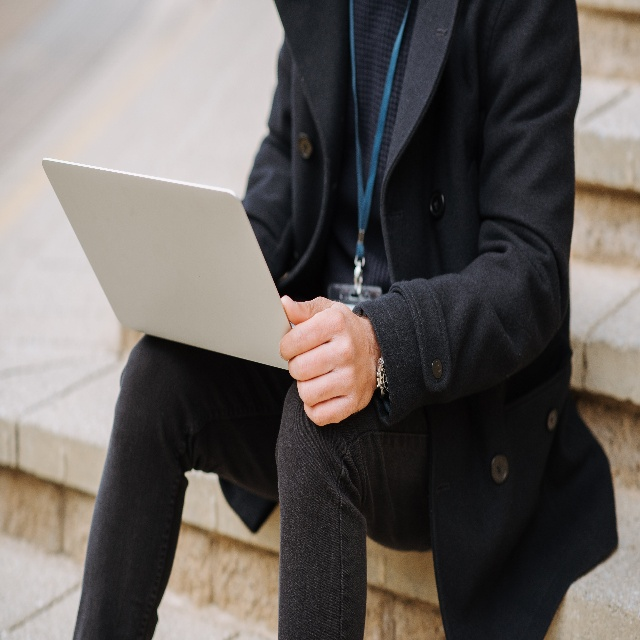Sin_guantes: (275, 288, 377, 428)
